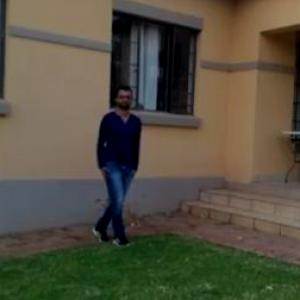follow: (88, 84, 142, 246)
